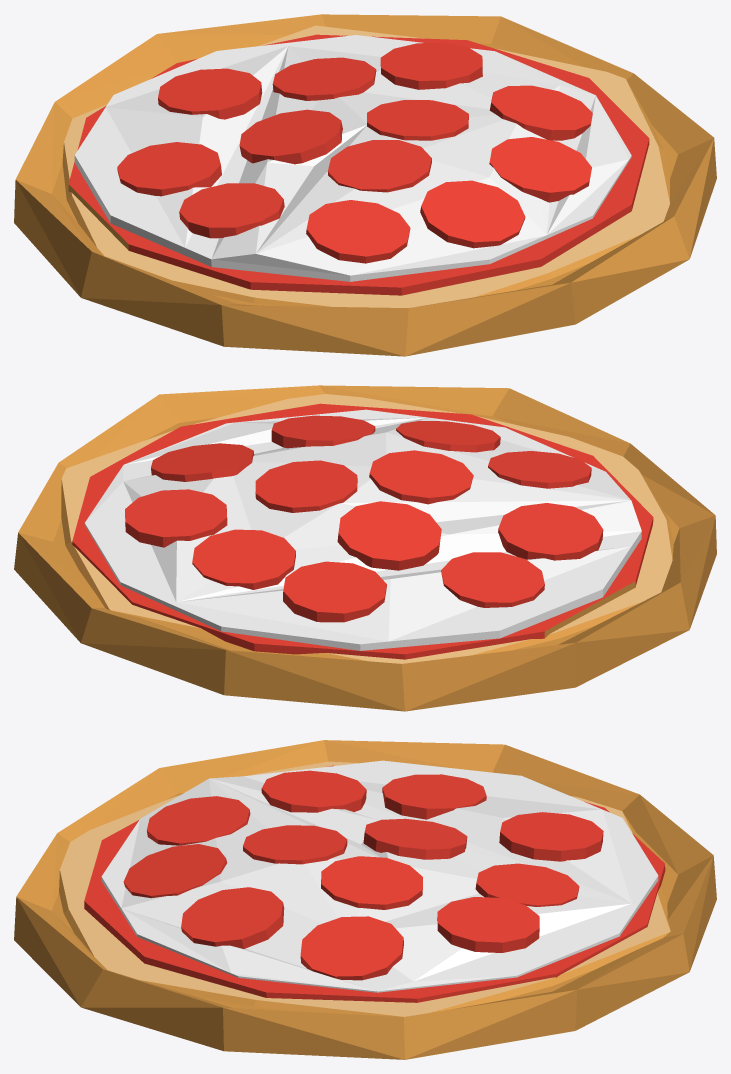
Rendered from pizza.glb.
3 renders of one model, top to bottom at view 1: azimuth 30°, elevation 25°; view 2: azimuth 150°, elevation 25°; view 3: azimuth 270°, elevation 25°, orthographic.
Visible parts, largest first — view 1: Node; view 2: Node; view 3: Node.
Part boxes in pixels (x1,y1,x2,y2): Node: (14,14,716,356); Node: (14,385,716,711); Node: (14,740,716,1059).
Size of the model in its own units: 0.4669 by 0.059 by 0.467.
